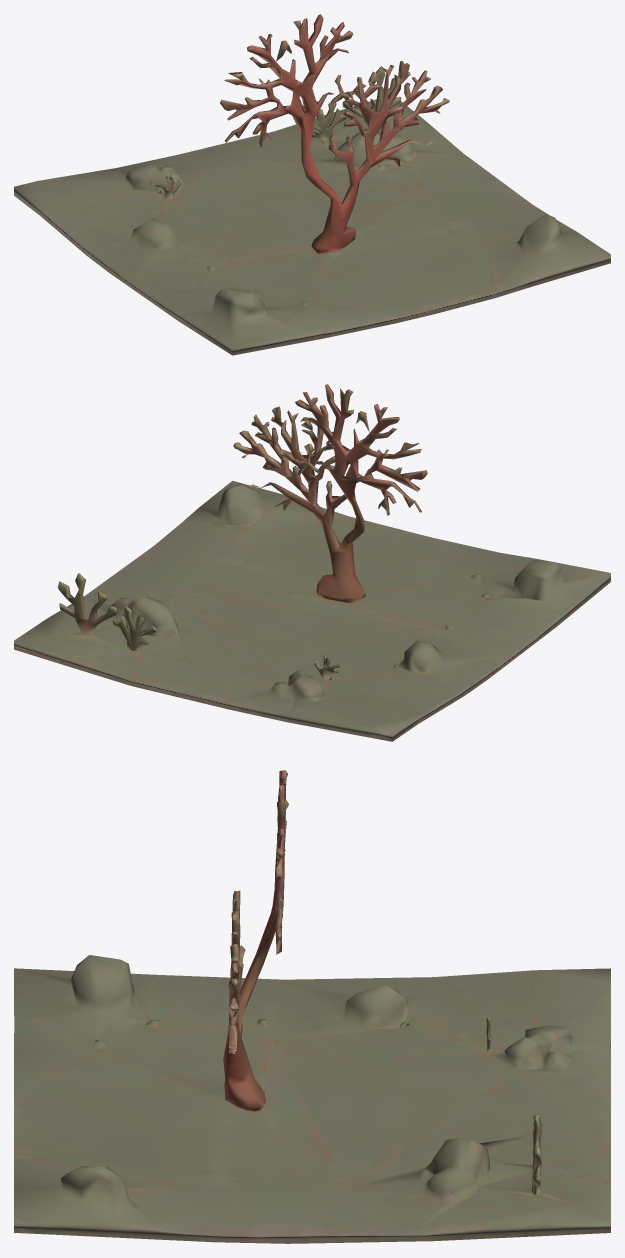
3 renders of one model, top to bottom at view 1: azimuth 30°, elevation 25°; view 2: azimuth 150°, elevation 25°; view 3: azimuth 270°, elevation 25°, orthographic. The views are drawn at different scales.
Size of the model in its own units: 1.9 by 1.11 by 1.9.
Materials: 1 (1 with a texture image).
